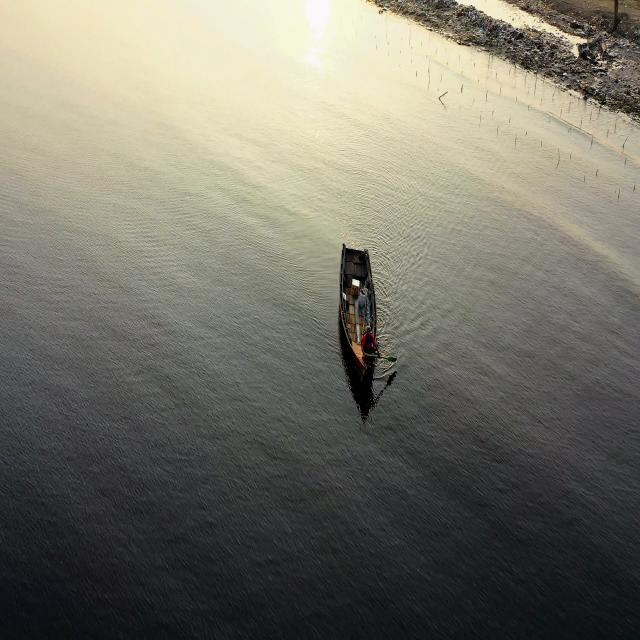ship: (338, 242, 380, 390)
